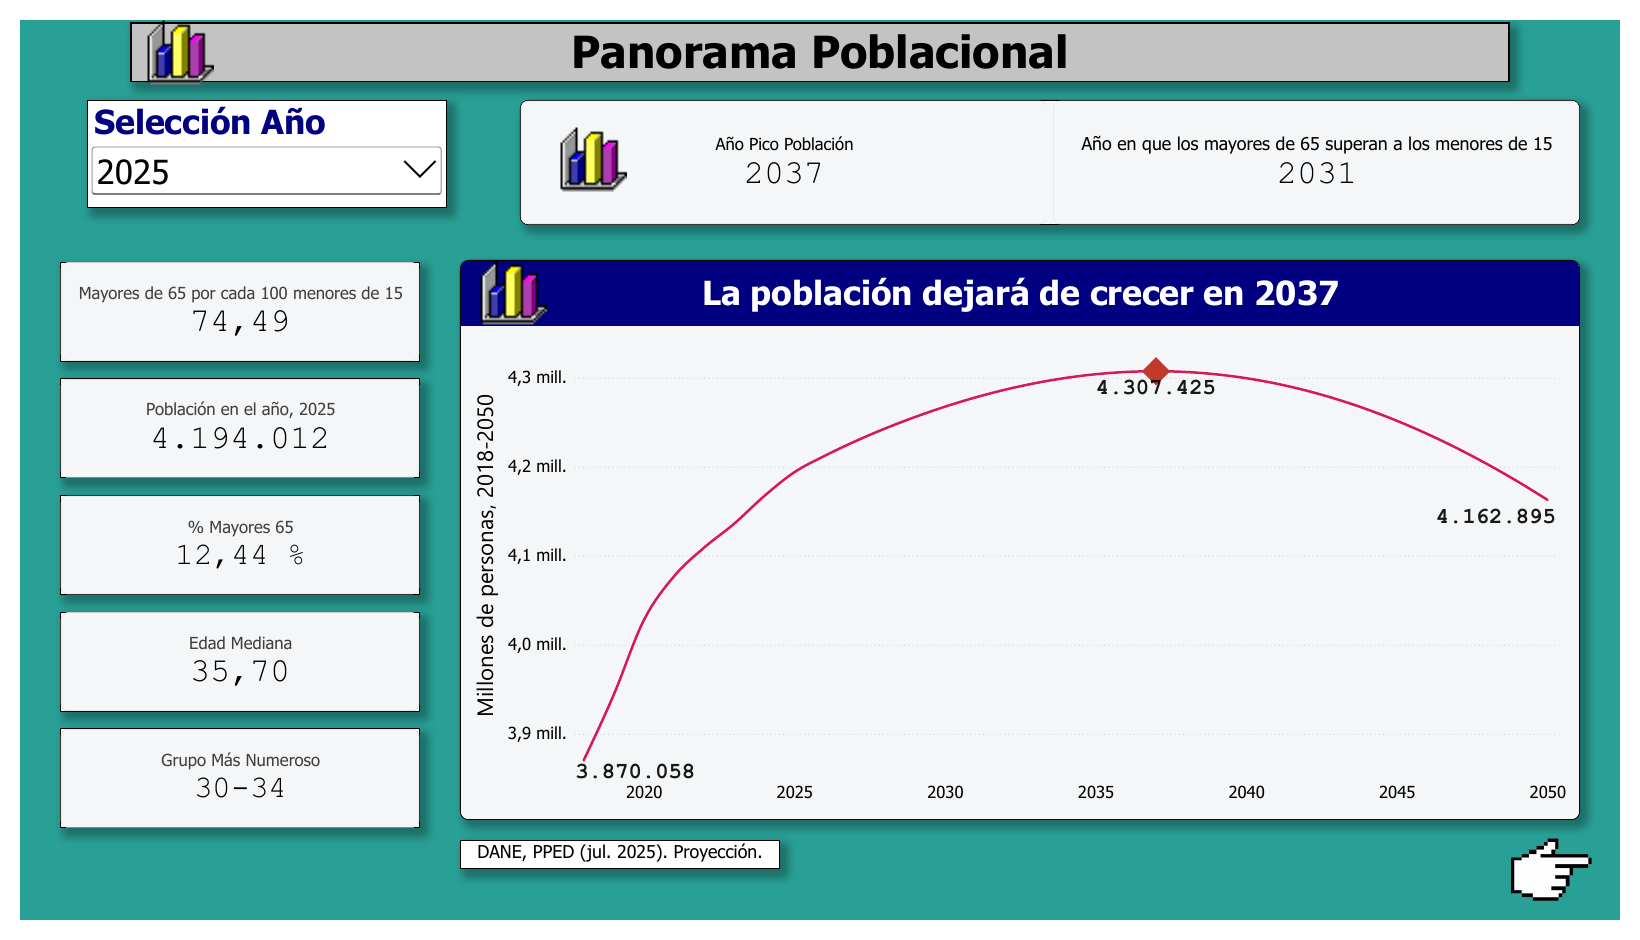

The page's visual inventory and layout, read from the dashboard file:
{"tool":"powerbi","page":{"name":"Panorama","canvas":[1920,1080],"ordinal":0},"visuals":[{"type":"cardVisual","fields":{"Data":["Medidas.Población"]},"box":[48,430,432,120],"z":0},{"type":"cardVisual","fields":{"Data":["Medidas.% Mayores 65"]},"box":[48,570,432,120],"z":1000},{"type":"cardVisual","fields":{"Data":["Medidas.Edad Mediana"]},"box":[48,710,432,120],"z":2000},{"type":"cardVisual","fields":{"Data":["Medidas.Índice de Envejecimiento"]},"box":[48,290,432,120],"z":3000},{"type":"lineChart","title":"La población dejará de crecer en 2037","fields":{"Category":["Años.Value"],"Y":["Medidas.Población","Medidas.Pob Etiqueta"]},"box":[528,288,1344,672],"z":4000},{"type":"cardVisual","fields":{"Data":["Medidas.Año Pico Población","Medidas.Año Inversión"]},"box":[600,96,1272,150],"z":5000},{"type":"textbox","box":[132,3,1656,72],"z":6000},{"type":"textbox","box":[528,984,384,35],"z":7000},{"type":"image","box":[1752,960,168,120],"z":8000},{"type":"slicer","fields":{"Values":["Años.Value"]},"box":[80,96,432,130],"z":12000},{"type":"image","box":[528,288,128,80],"z":13001},{"type":"image","box":[624,128,128,80],"z":13002},{"type":"image","box":[128,0,128,80],"z":13003},{"type":"cardVisual","fields":{"Data":["Medidas.Grupo Más Numeroso"]},"box":[48,850,432,120],"z":13004}]}

Visuals, with their boxes in screenshot pixels (x1, y1, x2, y2), scaled from the page's 1920x1080 canvas onto the 1640x940 screenshot:
cardVisual - Medidas.Población: bbox=[41, 374, 410, 479]
cardVisual - Medidas.% Mayores 65: bbox=[41, 496, 410, 601]
cardVisual - Medidas.Edad Mediana: bbox=[41, 618, 410, 722]
cardVisual - Medidas.Índice de Envejecimiento: bbox=[41, 252, 410, 357]
"La población dejará de crecer en 2037" lineChart: bbox=[451, 251, 1599, 836]
cardVisual - Medidas.Año Pico Población x Medidas.Año Inversión: bbox=[512, 84, 1599, 214]
textbox: bbox=[113, 3, 1527, 65]
textbox: bbox=[451, 856, 779, 887]
image: bbox=[1496, 836, 1639, 939]
slicer - Años.Value: bbox=[68, 84, 437, 197]
image: bbox=[451, 251, 560, 320]
image: bbox=[533, 111, 642, 181]
image: bbox=[109, 0, 219, 70]
cardVisual - Medidas.Grupo Más Numeroso: bbox=[41, 740, 410, 844]
